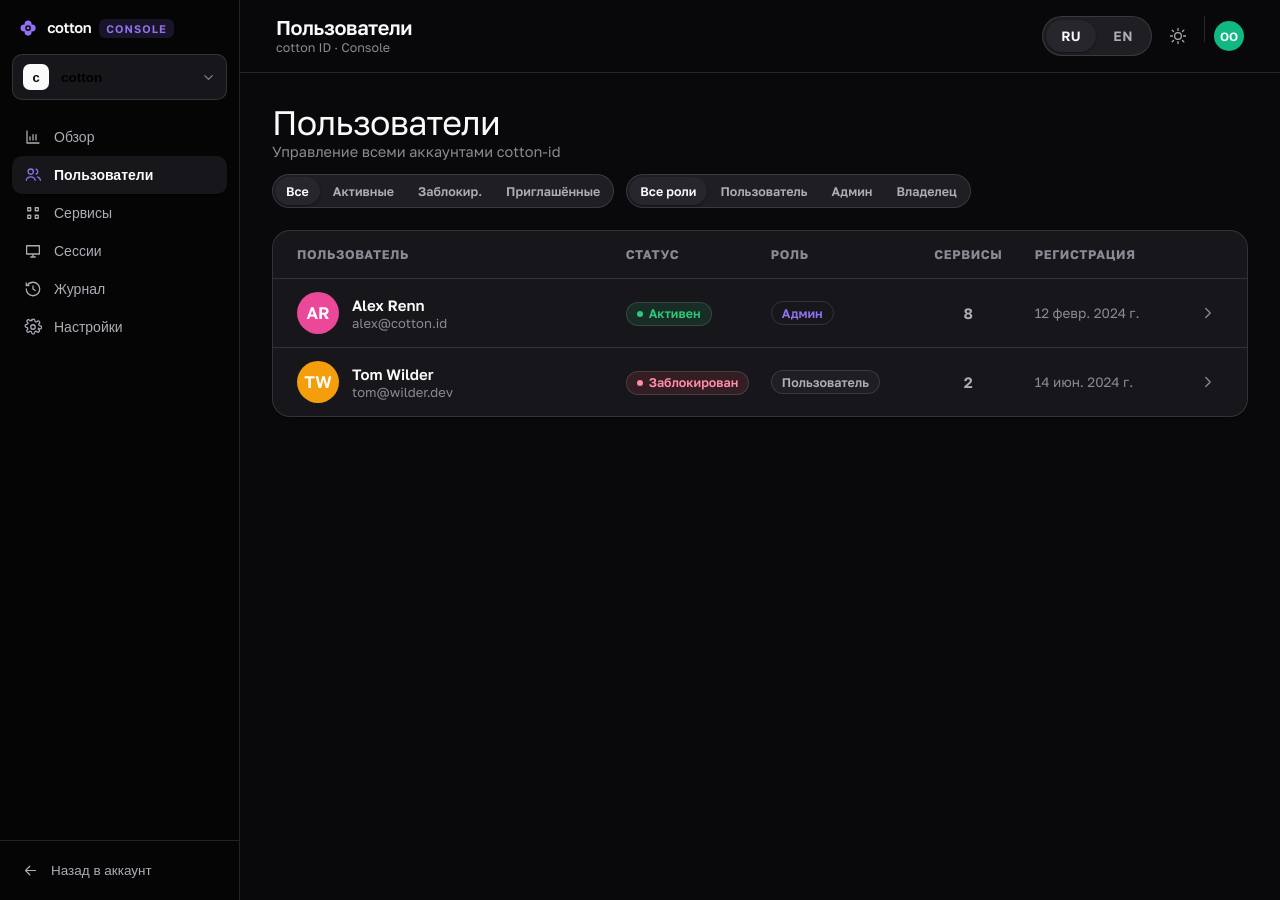
Test: Admin console › users table › opens the per-user detail when a row is clicked
What coordinates should you click on to do the following:
click the text "Tom Wilder"
I would click on:
 (393, 374)
Its box is [352,364,434,382].
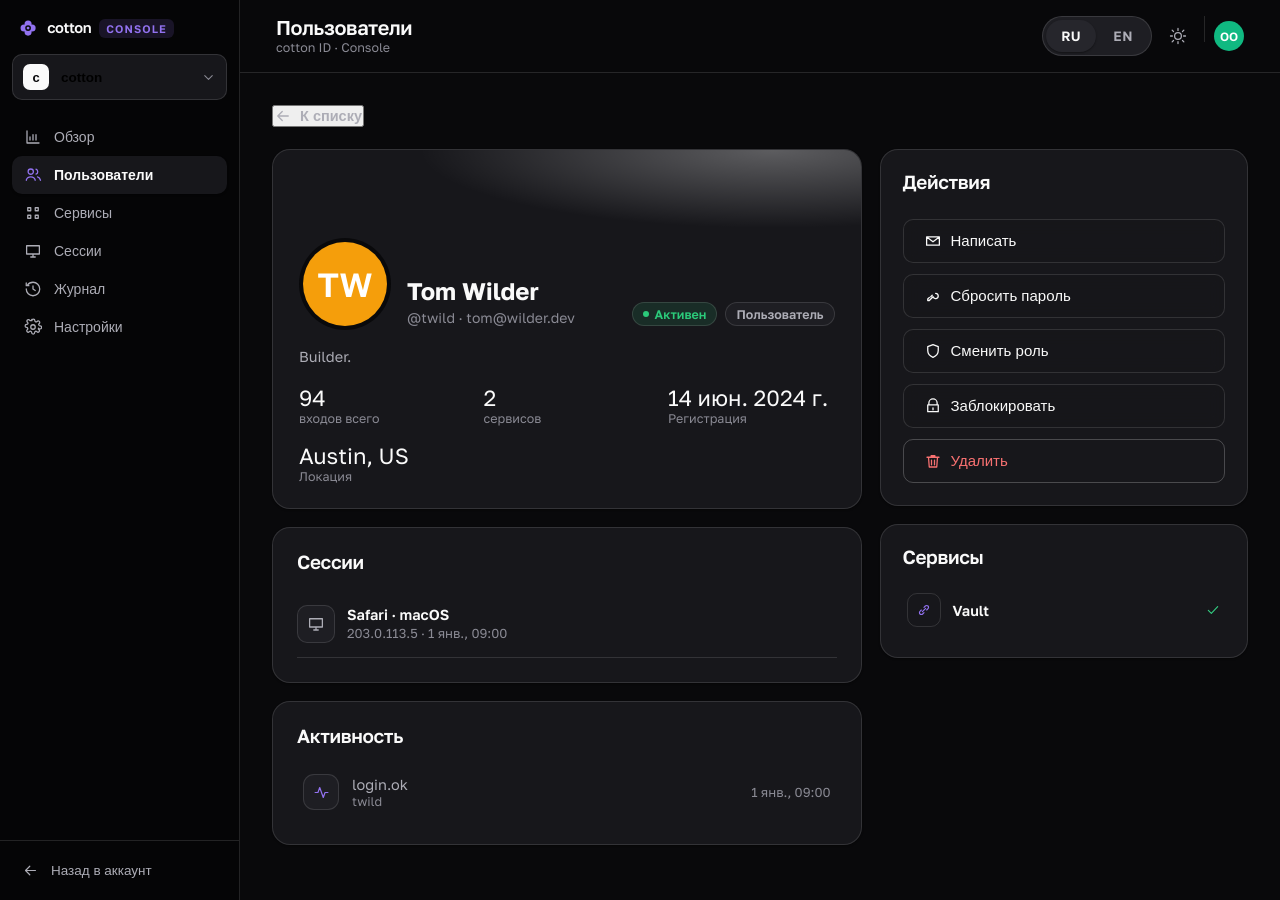
Now the heading "Действия" is shown, box [902,170,990,193]
